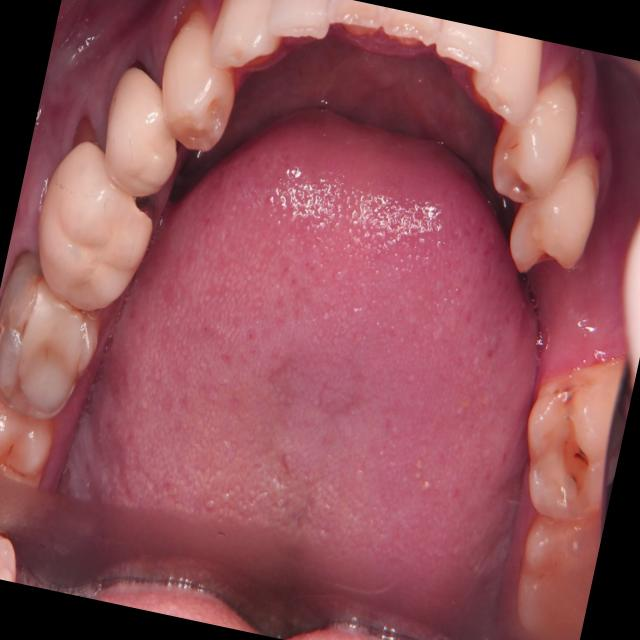tooth: (13, 103, 182, 330), (501, 316, 640, 533), (0, 238, 118, 431), (479, 34, 594, 218), (141, 0, 258, 164), (86, 43, 200, 211), (493, 132, 611, 294), (495, 492, 607, 640), (0, 374, 73, 542), (461, 27, 552, 136), (198, 0, 293, 90), (424, 17, 503, 85), (259, 0, 341, 54), (375, 6, 446, 54), (319, 0, 389, 41)
